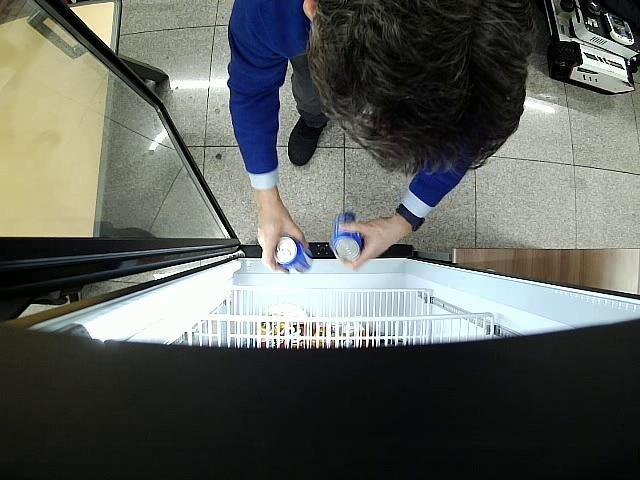13_pocariSweat: (332, 213, 364, 262), (275, 237, 313, 275)
